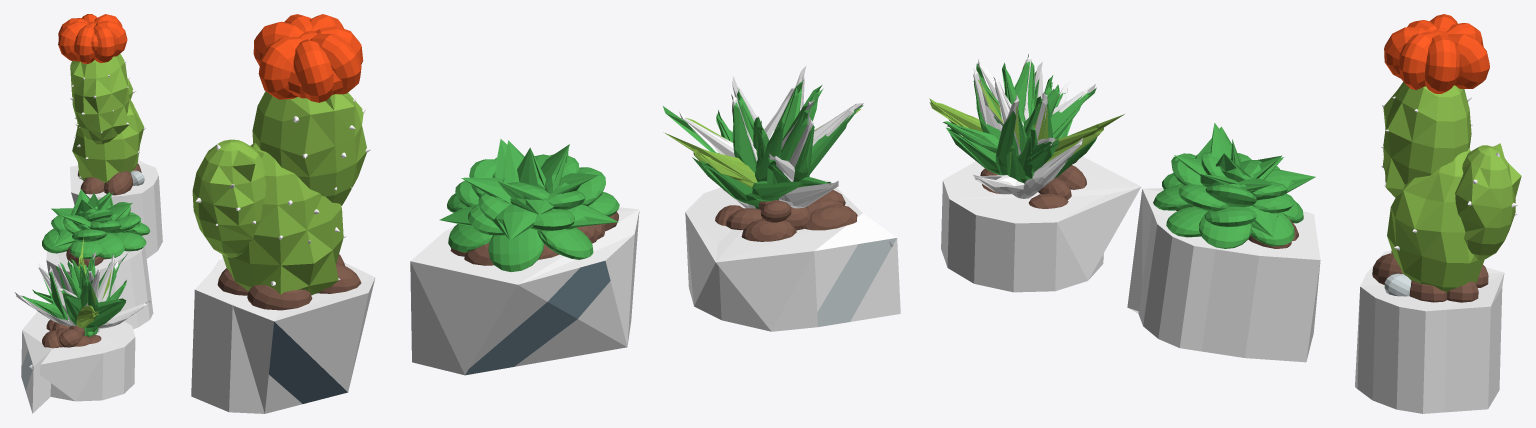
File: Plant Decor.glb
3 views of the same model, side by side, from view 1: azimuth 30°, elevation 25°; view 2: azimuth 150°, elevation 25°; view 3: azimuth 270°, elevation 25° (orthographic). The views are drawn at different scales.
Parts seen in each view (by area): view 1: Node; view 2: Node; view 3: Node.
Boxes of the visible parts, x1,y1,x2,y2 form: Node: (14, 14, 162, 413); Node: (191, 14, 900, 413); Node: (929, 14, 1521, 413).
Size of the model in its own units: 0.4781 by 0.391 by 0.5959.
